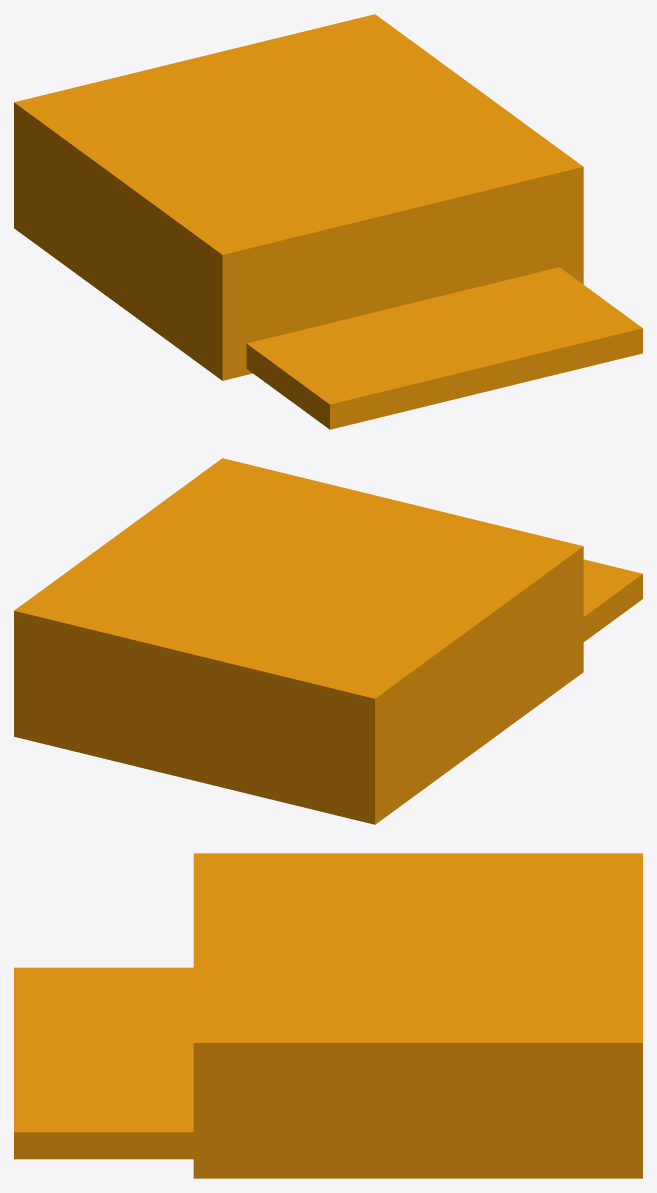
File: accessory_cap.glb
3 views of the same model, one above another, from view 1: azimuth 30°, elevation 25°; view 2: azimuth 150°, elevation 25°; view 3: azimuth 270°, elevation 25° (orthographic). The views are drawn at different scales.
Parts seen in each view (by area): view 1: cap_crown, cap_brim; view 2: cap_crown, cap_brim; view 3: cap_crown, cap_brim.
Part boxes in pixels (<box>): cap_crown: <box>14,14,583,380</box>; cap_brim: <box>246,267,642,429</box>; cap_crown: <box>14,458,583,824</box>; cap_brim: <box>583,559,642,641</box>; cap_crown: <box>193,853,642,1178</box>; cap_brim: <box>14,967,193,1159</box>.
Bounding box in the file's own units: 0.3 × 0.1 × 0.42.
